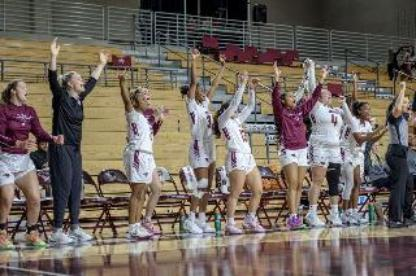person: (45, 34, 115, 249), (213, 71, 271, 236), (114, 67, 162, 241), (267, 63, 312, 234), (0, 76, 46, 243), (178, 45, 218, 236), (308, 85, 348, 230), (378, 82, 416, 229)
